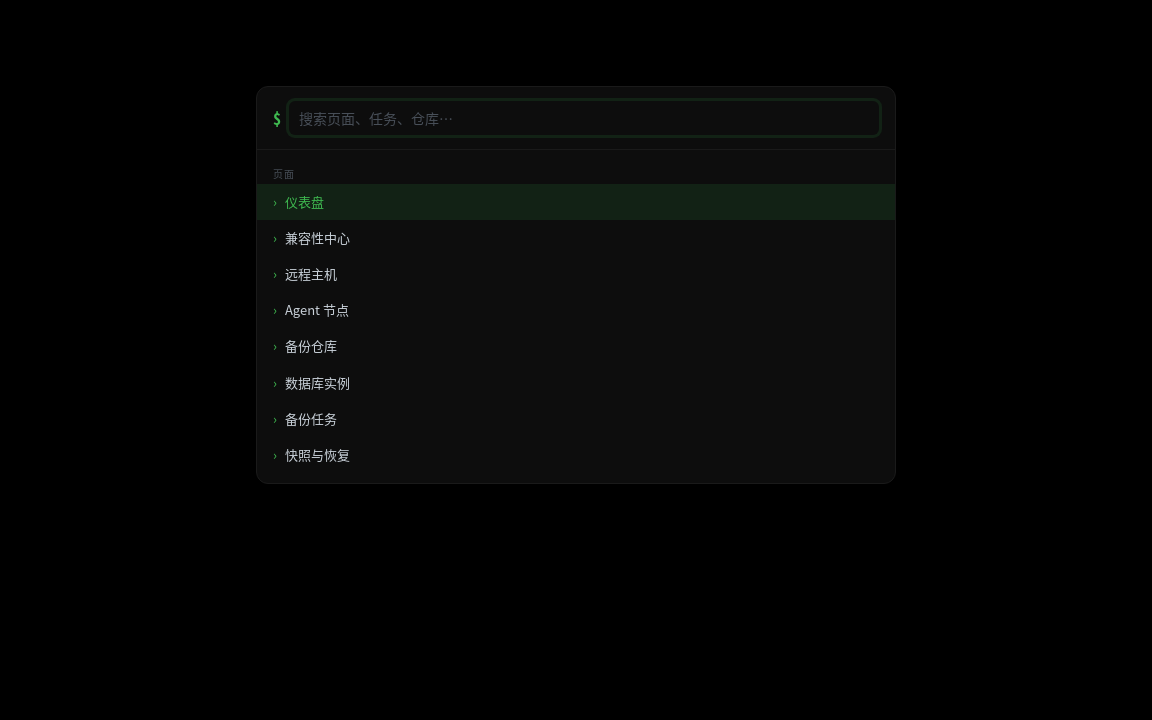
Test: CommandPalette › filters results by query across pages, tasks, repositories, and agents
In the field labelled "搜索页面、任务、仓库…": {"x": 584, "y": 118} [289,101,879,135], type "web"
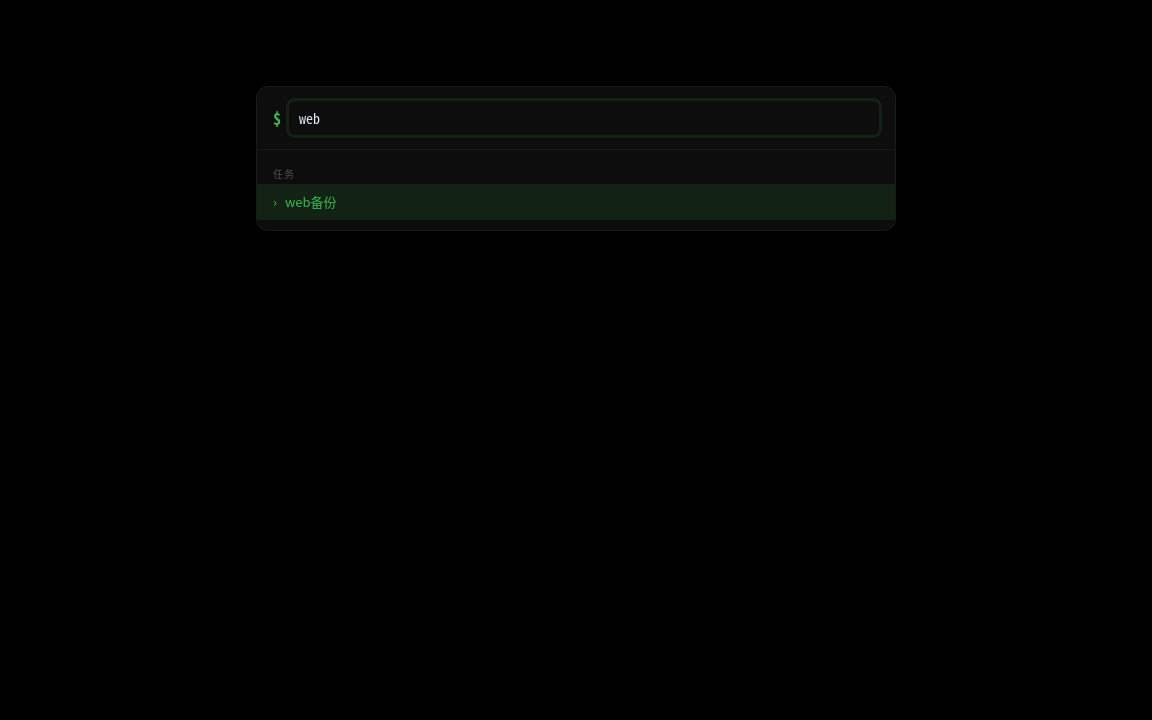
Result: the option "› web备份" is shown at [257,184,895,220]
